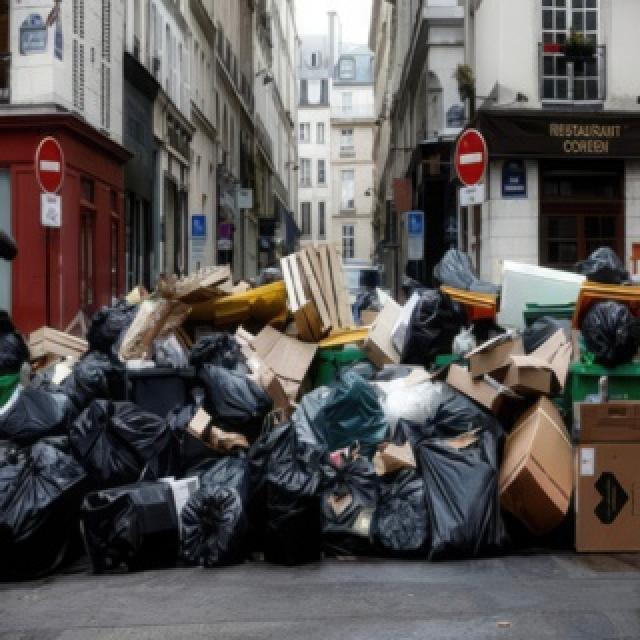high trash: (0, 246, 640, 578)
